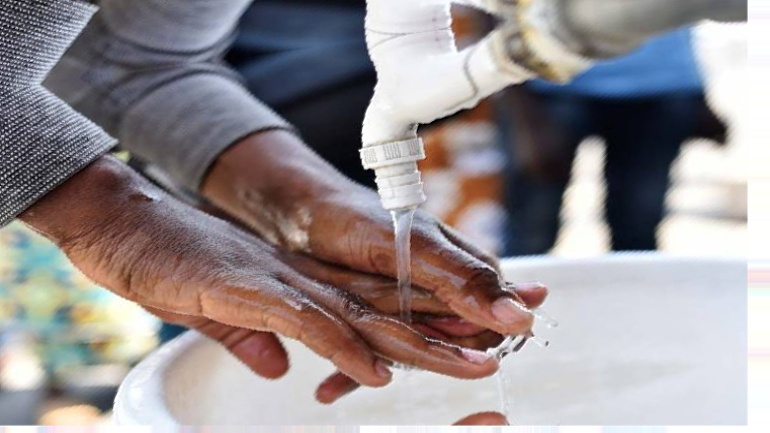washing hand: (10, 26, 609, 432)
